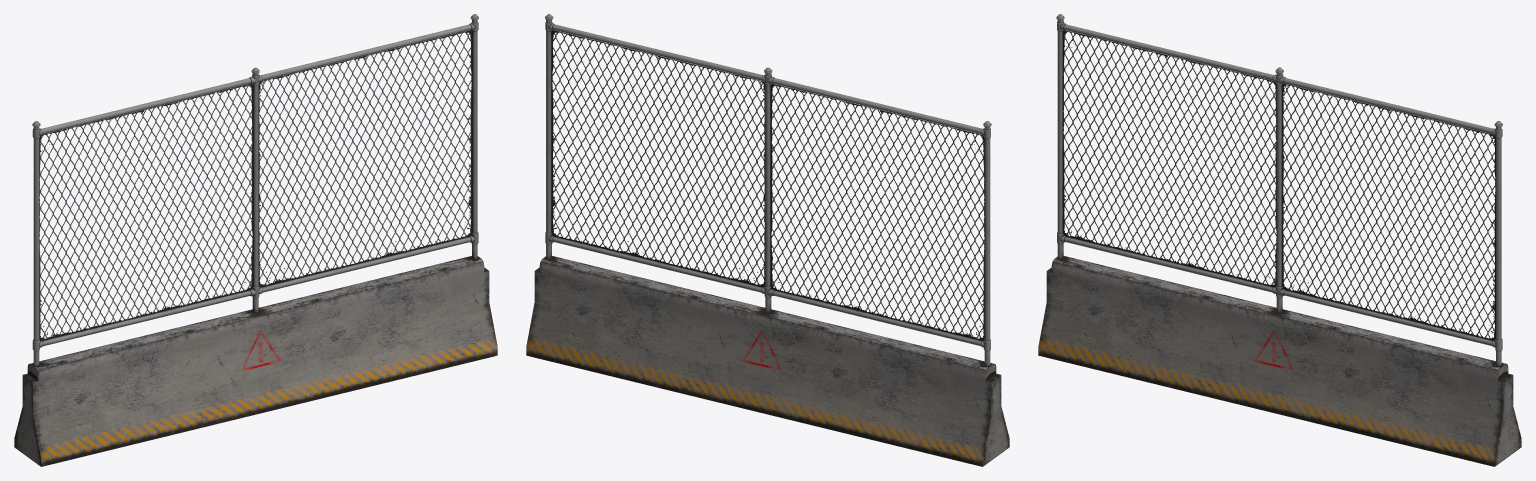
The model's file is fence.glb.
3 renders of one model, left to right at view 1: azimuth 30°, elevation 25°; view 2: azimuth 150°, elevation 25°; view 3: azimuth 330°, elevation 25°, orthographic.
Visible parts, largest first — view 1: 01_01_0, 02_02_0; view 2: 01_01_0, 02_02_0; view 3: 01_01_0, 02_02_0.
Part boxes in pixels (bbox=[...]): 01_01_0: bbox=[14, 30, 497, 466]; 02_02_0: bbox=[32, 14, 478, 365]; 01_01_0: bbox=[526, 30, 1009, 466]; 02_02_0: bbox=[545, 14, 991, 365]; 01_01_0: bbox=[1038, 30, 1521, 466]; 02_02_0: bbox=[1056, 14, 1502, 365].
Bounding box in the file's own units: 3.55 × 2.48 × 0.3635.
2 materials, 2 textured.
